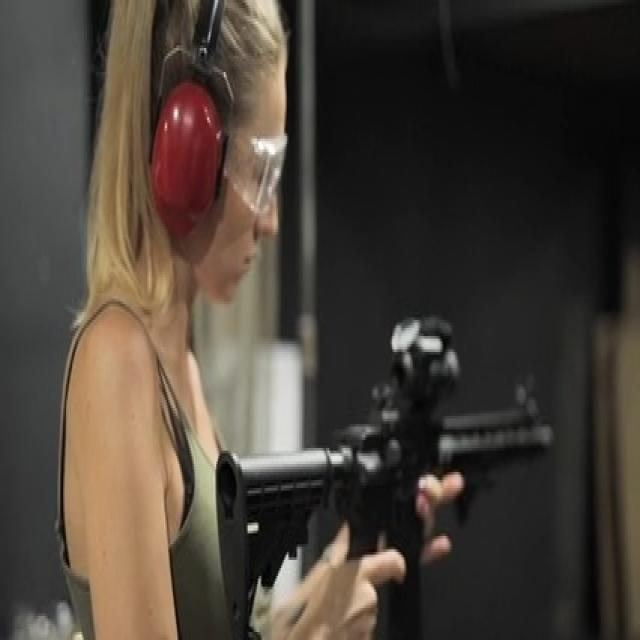Gun_Holder: (212, 276, 584, 635)
Person: (58, 0, 411, 640)
